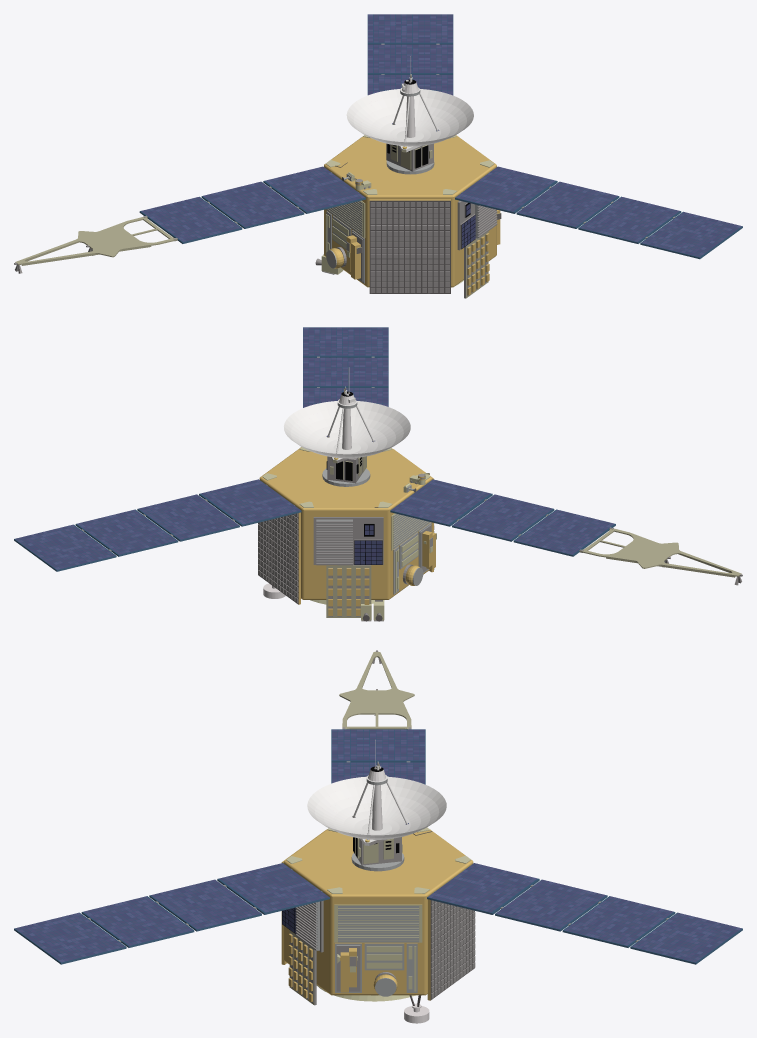
The model's file is juno.glb.
3 views of the same model, one above another, from view 1: azimuth 30°, elevation 25°; view 2: azimuth 150°, elevation 25°; view 3: azimuth 270°, elevation 25° (orthographic). The views are drawn at different scales.
Parts seen in each view (by area): view 1: Layer_0; view 2: Layer_0; view 3: Layer_0.
Boxes of the visible parts, box(x1,y1,x2,y2) form: Layer_0: box(14, 14, 742, 298); Layer_0: box(14, 327, 742, 621); Layer_0: box(14, 650, 742, 1023).
Bounding box in the file's own units: 23.26 × 8.73 × 22.92.
Materials: 2 (2 with a texture image).
